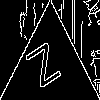Z: (25, 42, 68, 97)
